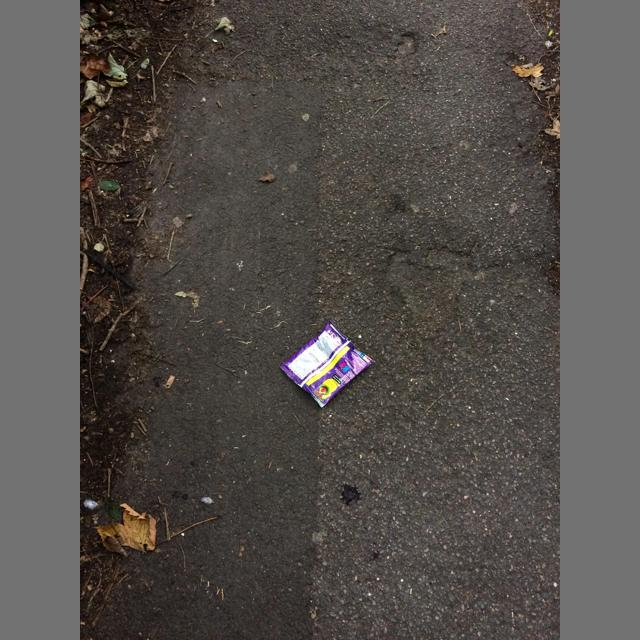litter: (280, 320, 374, 407), (165, 375, 175, 389)
